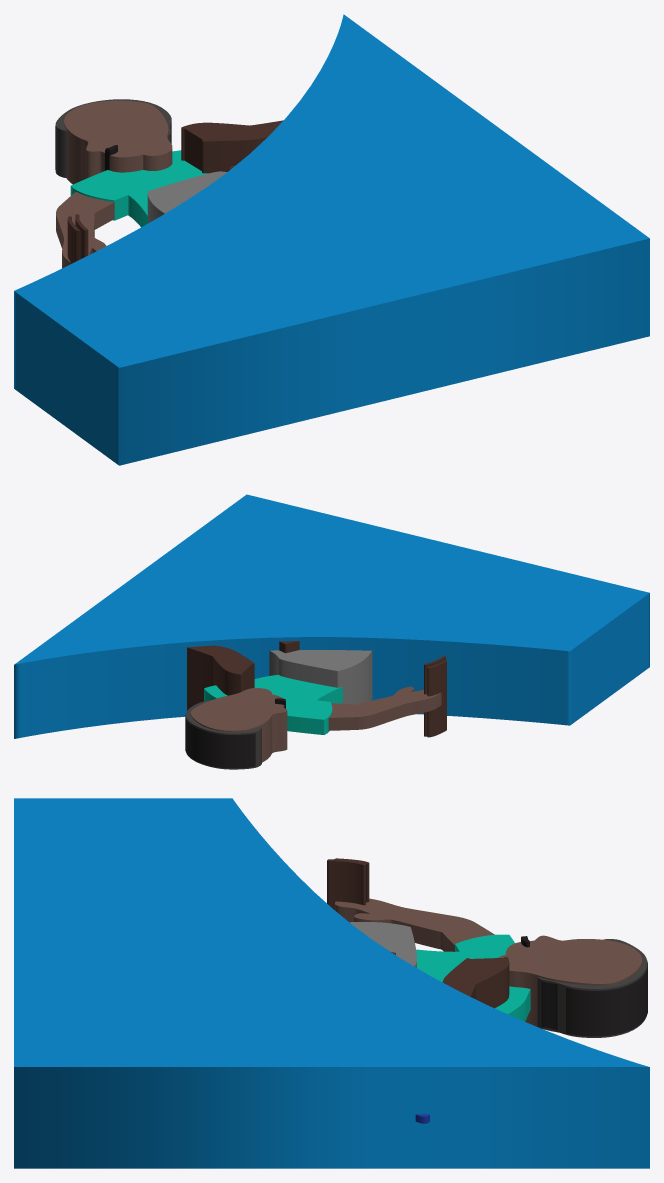
File: emoji_u1f3c4_1f3ff_200d_2642.glb
3 views of the same model, one above another, from view 1: azimuth 30°, elevation 25°; view 2: azimuth 150°, elevation 25°; view 3: azimuth 270°, elevation 25° (orthographic). The views are drawn at different scales.
Visible parts, largest first — view 1: emoji_u1f3c4_1f3ff_200d_2642; view 2: emoji_u1f3c4_1f3ff_200d_2642; view 3: emoji_u1f3c4_1f3ff_200d_2642.
Boxes of the visible parts, bbox=[...] form: emoji_u1f3c4_1f3ff_200d_2642: bbox=[14, 14, 649, 465]; emoji_u1f3c4_1f3ff_200d_2642: bbox=[14, 494, 649, 769]; emoji_u1f3c4_1f3ff_200d_2642: bbox=[14, 798, 649, 1168].
Bounding box in the file's own units: 0.0332 × 0.0058 × 0.0329.
